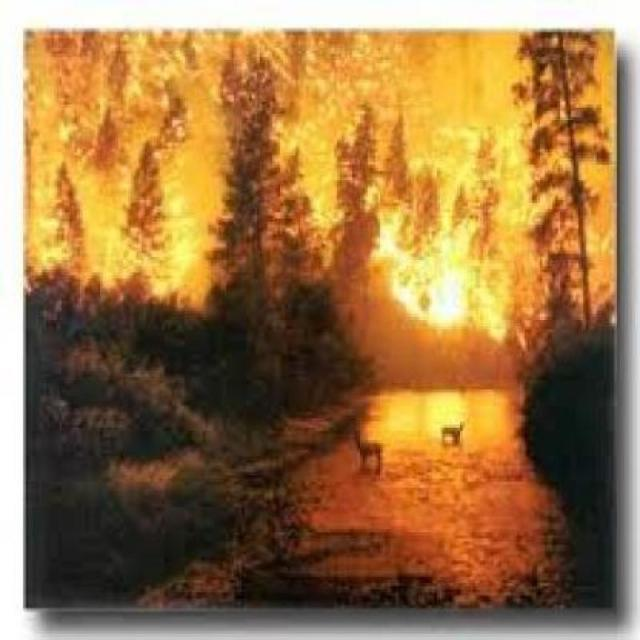Fire: (12, 40, 640, 640)
